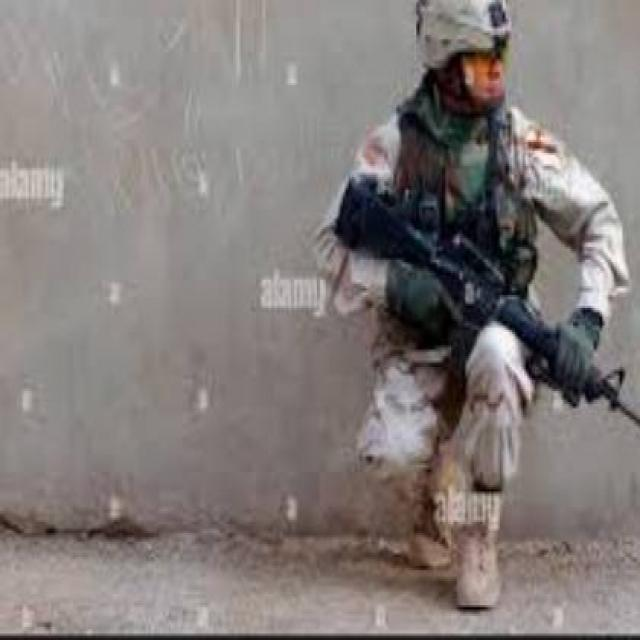m16: (326, 137, 640, 424)
